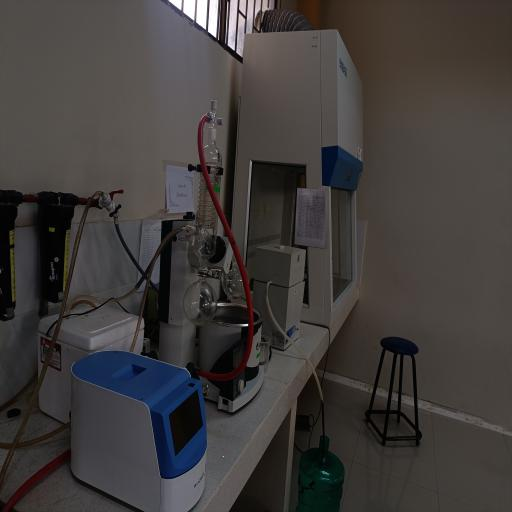Camara_Extractora_Biobase: (232, 22, 382, 370)
